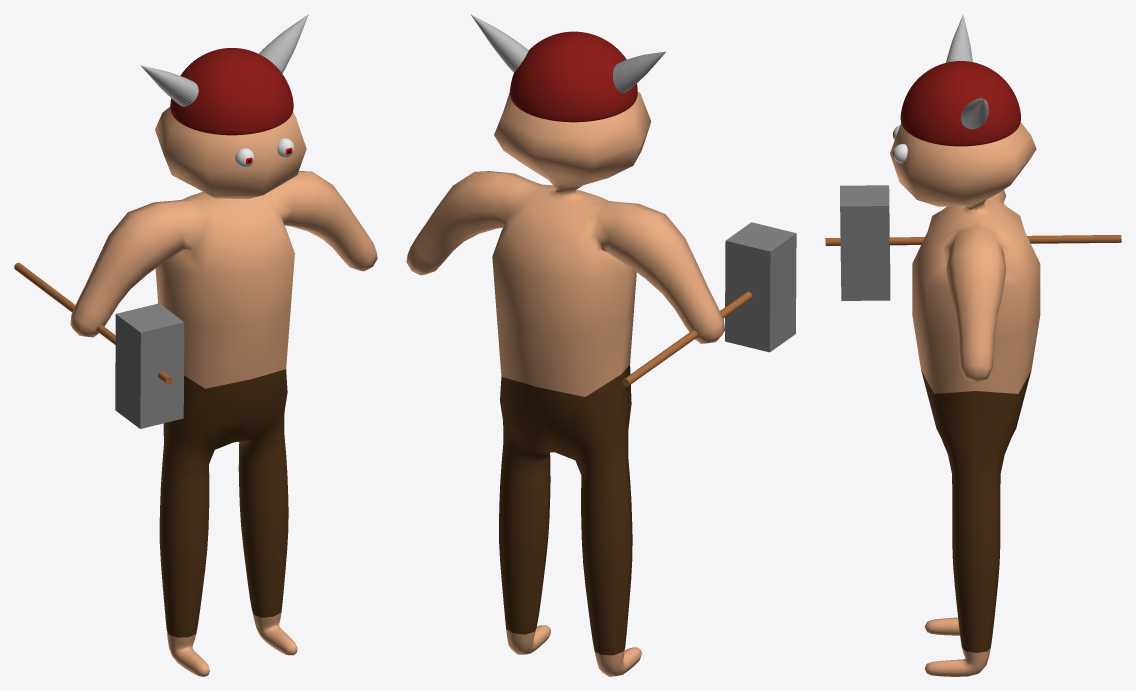
The model's file is brawny_guy.fbx.
3 views of the same model, side by side, from view 1: azimuth 30°, elevation 25°; view 2: azimuth 150°, elevation 25°; view 3: azimuth 270°, elevation 25° (orthographic). The views are drawn at different scales.
Parts seen in each view (by area): view 1: Plane, Sphere, Cube, Cone, Cone.001, Cylinder; view 2: Plane, Sphere, Cube, Cone.001, Cone, Cylinder; view 3: Plane, Sphere, Cube, Cylinder, Cone, Cone.001.
Part boxes in pixels (bbox=[...]): Plane: bbox=[70, 107, 377, 676]; Sphere: bbox=[170, 48, 293, 135]; Cube: bbox=[115, 303, 184, 428]; Cone: bbox=[140, 65, 198, 106]; Cone.001: bbox=[259, 14, 308, 73]; Cylinder: bbox=[14, 262, 172, 384]; Plane: bbox=[406, 92, 724, 676]; Sphere: bbox=[510, 31, 637, 122]; Cube: bbox=[725, 222, 796, 352]; Cone.001: bbox=[470, 14, 528, 72]; Cone: bbox=[613, 51, 666, 93]; Cylinder: bbox=[622, 291, 752, 386]; Plane: bbox=[890, 122, 1040, 676]; Sphere: bbox=[900, 61, 1020, 146]; Cube: bbox=[840, 185, 890, 300]; Cylinder: bbox=[825, 235, 1121, 245]; Cone: bbox=[946, 14, 972, 62]; Cone.001: bbox=[960, 98, 988, 129].
Size of the model in its own units: 1400 by 2693 by 1208.
